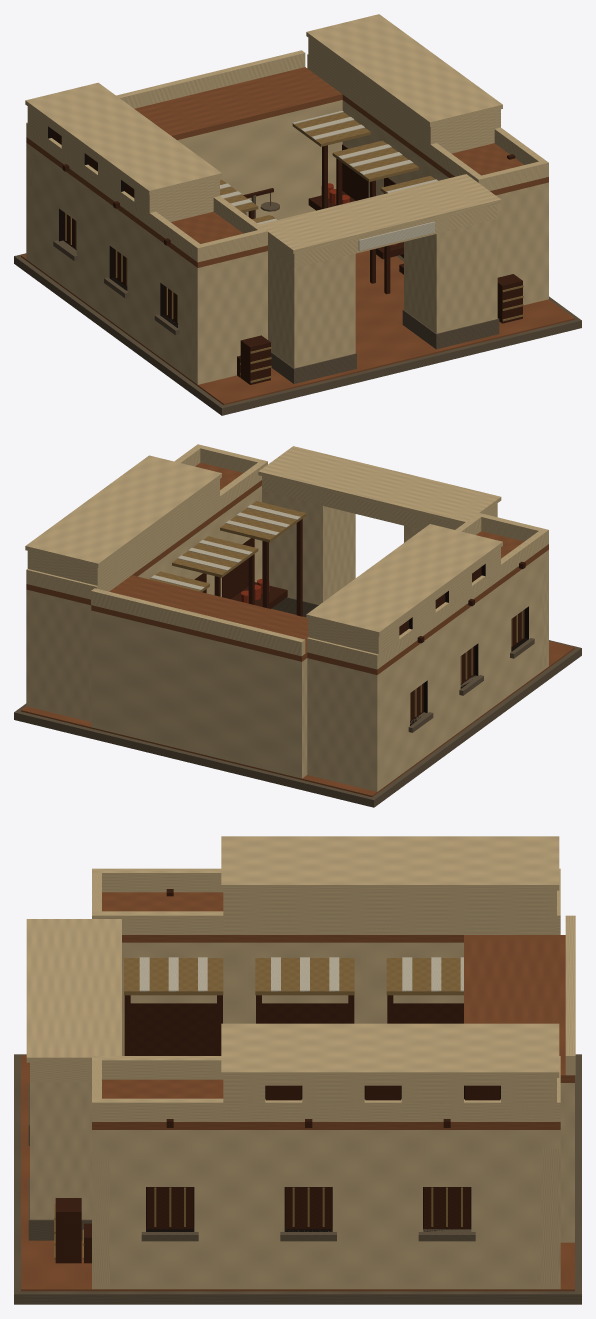
The model's file is Berber_Market_Age3.fbx.
3 renders of one model, top to bottom at view 1: azimuth 30°, elevation 25°; view 2: azimuth 150°, elevation 25°; view 3: azimuth 270°, elevation 25°, orthographic. The views are drawn at different scales.
Parts seen in each view (by area): view 1: west_warehouse, court_floor, rear_goods_hall, west_upper_cap, east_upper_cap, entry_right_pier, entry_left_pier, entry_coping, rear_hall_roof, east_warehouse, foundation, east_upper_store (+22 smaller); view 2: west_warehouse, rear_goods_hall, east_warehouse, west_upper_cap, east_upper_cap, entry_coping, entry_right_pier, foundation, rear_hall_roof, east_upper_store, west_upper_store, rear_hall_parapet (+17 smaller); view 3: east_warehouse, west_upper_cap, east_upper_cap, west_upper_store, entry_coping, west_warehouse, foundation, east_parapet.001, rear_hall_roof, entry_right_pier, east_upper_store, court_floor (+23 smaller).
Boxes of the visible parts, x1,y1,x2,y2 form: west_warehouse: (26,143,267,384); court_floor: (21,250,574,405); rear_goods_hall: (177,100,342,219); west_upper_cap: (25,82,221,194); east_upper_cap: (306,14,502,126); entry_right_pier: (404,219,497,333); entry_left_pier: (268,249,355,368); entry_coping: (259,174,501,253); rear_hall_roof: (134,67,342,140); east_warehouse: (342,100,548,305); foundation: (14,253,581,415); east_upper_store: (308,38,500,158); west_warehouse: (307,550,548,791); rear_goods_hall: (91,610,307,778); east_warehouse: (26,486,261,721); west_upper_cap: (306,524,502,636); east_upper_cap: (25,455,221,567); entry_coping: (258,446,501,524); entry_right_pier: (262,491,355,604); foundation: (14,640,581,807); rear_hall_roof: (91,575,308,661); east_upper_store: (27,479,219,591); west_upper_store: (308,547,500,654); rear_hall_parapet: (91,588,305,656); east_warehouse: (92,1130,560,1289); west_upper_cap: (221,836,559,890); east_upper_cap: (221,1023,559,1077); west_upper_store: (223,890,556,934); entry_coping: (26,919,121,1062); west_warehouse: (122,942,463,1055); foundation: (14,1054,581,1304); east_parapet.001: (92,1098,560,1121); rear_hall_roof: (464,935,574,1082); entry_right_pier: (30,1083,91,1219); east_upper_store: (223,1078,556,1121); court_floor: (21,1055,574,1291).
Bounding box in the file's own units: 800 × 358 × 800.
Materials: 8 (8 with a texture image).
